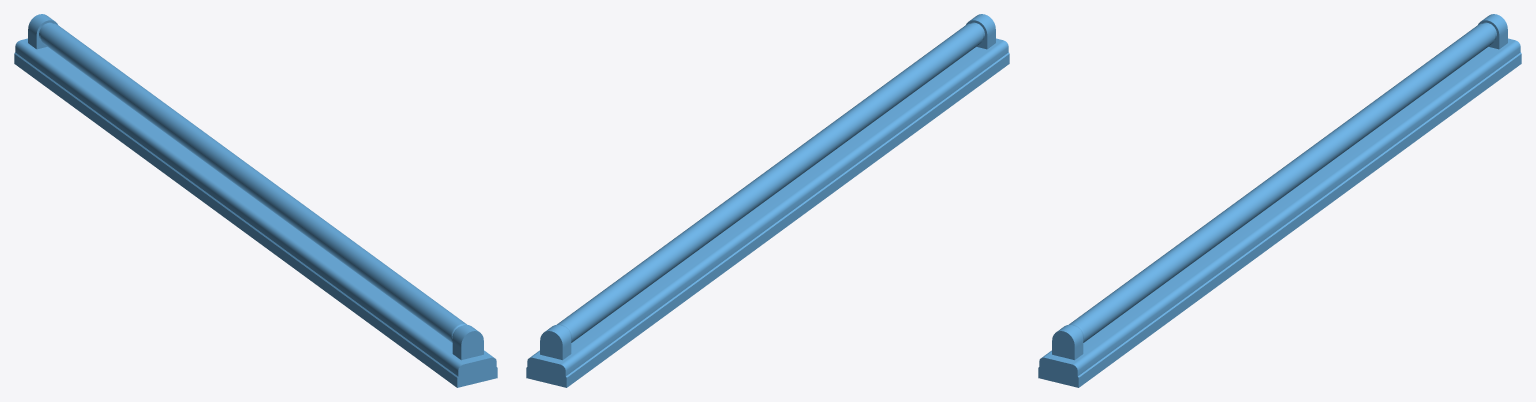
Rendered from Classic_fluorescent_lamp.fbx.
3 views of the same model, side by side, from view 1: azimuth 30°, elevation 25°; view 2: azimuth 150°, elevation 25°; view 3: azimuth 330°, elevation 25° (orthographic).
Visible parts, largest first — view 1: Lamp1; view 2: Lamp1; view 3: Lamp1.
Part boxes in pixels (x1=…): Lamp1: x1=14, y1=14, x2=497, y2=387; Lamp1: x1=526, y1=14, x2=1009, y2=387; Lamp1: x1=1038, y1=14, x2=1521, y2=387.
Size of the model in its own units: 5.02 by 5.69 by 94.96.
